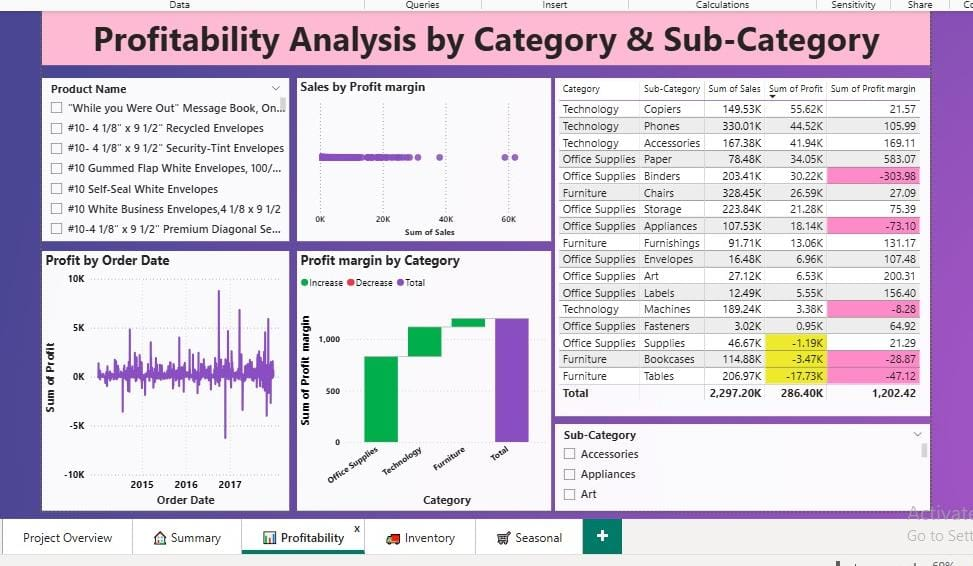

This screenshot's page, from the dashboard's own definition file:
{"tool":"powerbi","page":{"name":"📊 Profitability","canvas":[1280,720],"ordinal":2},"visuals":[{"type":"textbox","box":[0,0,1279.8,78],"z":0},{"type":"tableEx","fields":{"Values":["Orders.Category","Orders.Sub-Category","Sum(Orders.Sales)","Sum(Orders.Profit)","Sum(Orders.Profit margin)"]},"box":[738.7,96.5,541.4,486.7],"z":1000},{"type":"slicer","fields":{"Values":["Orders.Product Name"]},"box":[0,96.5,355.7,234.7],"z":3000},{"type":"slicer","fields":{"Values":["Orders.Sub-Category"]},"box":[738.7,594.7,541.4,125.3],"z":4000},{"type":"lineChart","title":" Profit by Order Date","fields":{"Category":["Orders.Order Date"],"Y":["Sum(Orders.Profit)"]},"box":[0,345.6,355.7,374.4],"z":5000},{"type":"waterfallChart","title":" Profit margin by Category","fields":{"Category":["Orders.Category"],"Y":["Sum(Orders.Profit margin)"]},"box":[367.2,345.6,365.8,374.4],"z":6000},{"type":"scatterChart","title":"Sales by Profit margin","fields":{"Category":["Orders.Profit margin"],"X":["Sum(Orders.Sales)"]},"box":[367.2,96.5,365.8,234.7],"z":7000}]}

Visuals, with their boxes on the page's 1280x720 design canvas (x1, y1, x2, y2). These are canvas units, not pixel positions in the 973x566 screenshot, which may show the page scaled, cropped or inside an application window:
textbox: region(0, 0, 1280, 78)
tableEx - Orders.Category x Orders.Sub-Category: region(739, 96, 1280, 583)
slicer - Orders.Product Name: region(0, 96, 356, 331)
slicer - Orders.Sub-Category: region(739, 595, 1280, 720)
" Profit by Order Date" lineChart: region(0, 346, 356, 720)
" Profit margin by Category" waterfallChart: region(367, 346, 733, 720)
"Sales by Profit margin" scatterChart: region(367, 96, 733, 331)
